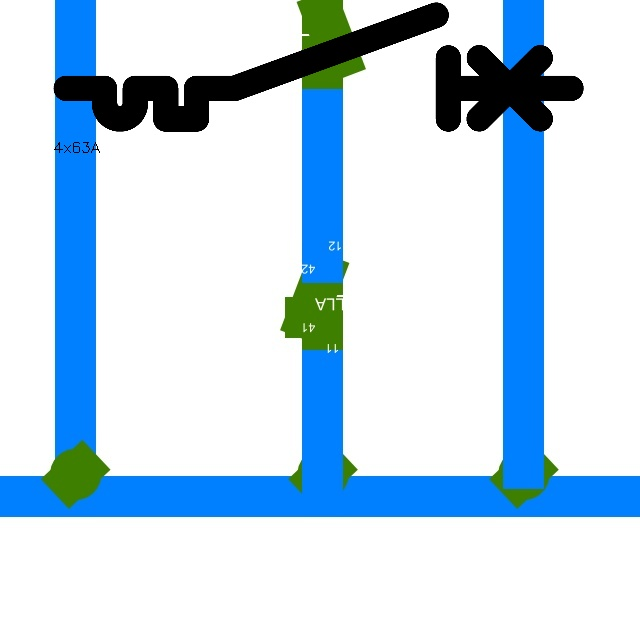interruptor_termomagnetico: (53, 2, 584, 132)
